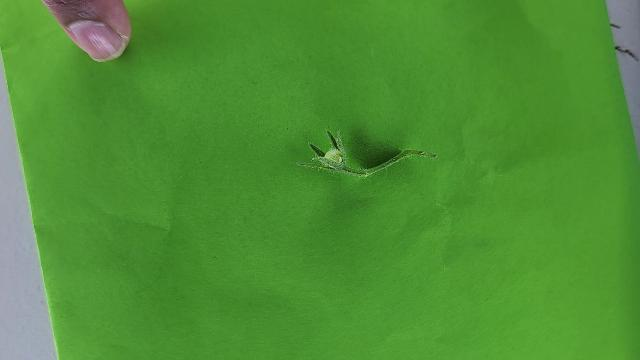Fruit Bud: (306, 129, 346, 168)
